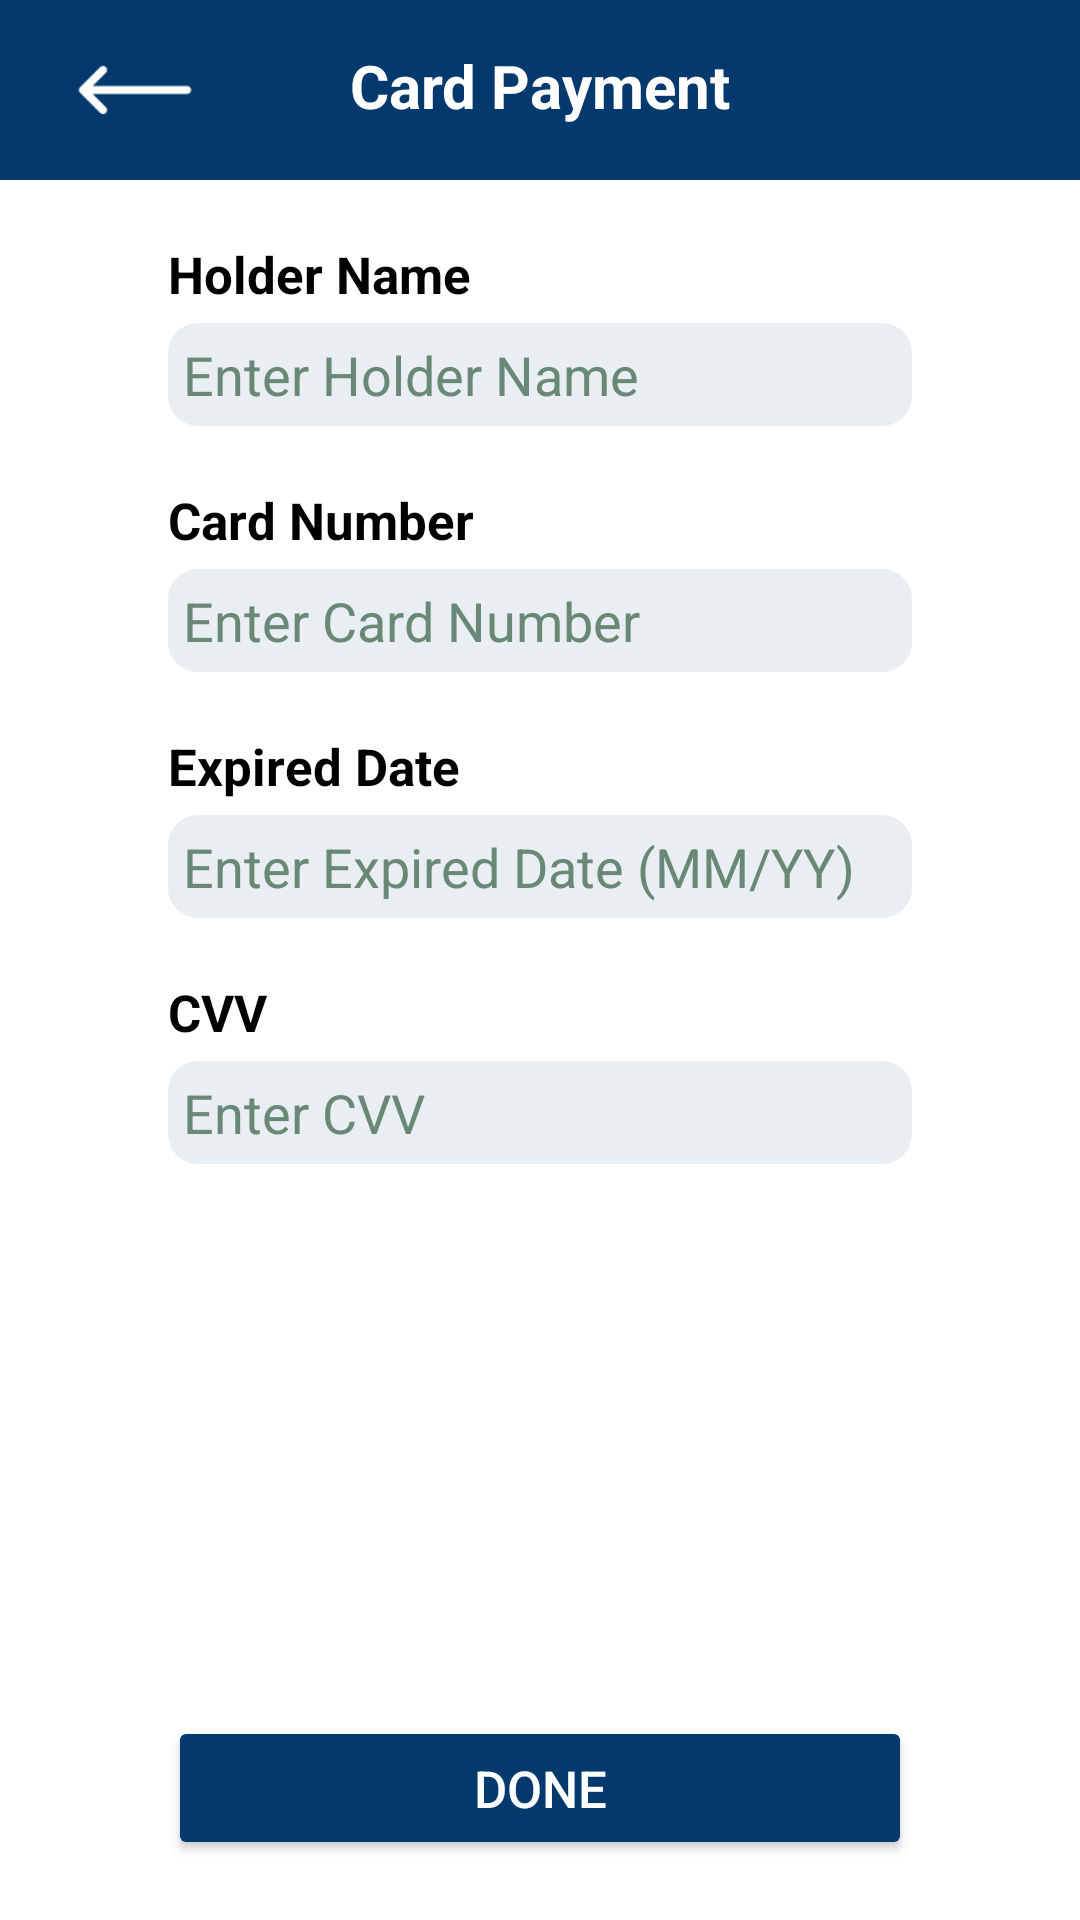

Screen size 1080w x 1920h. Icon name, then its center in pixels as (x=x, y=y):
back arrow: (x=135, y=90)
